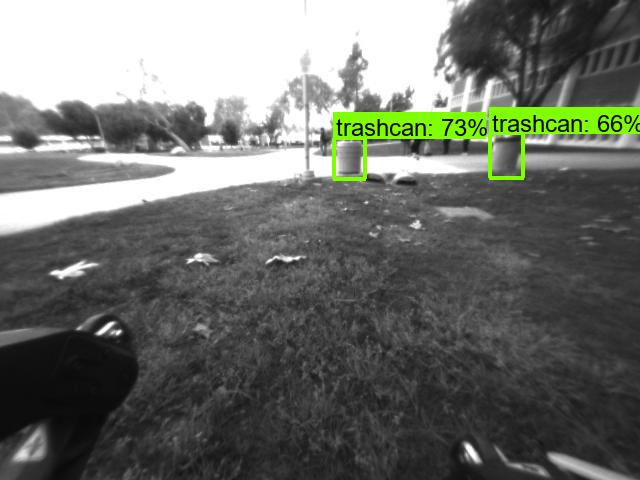trashcan: (334, 141, 366, 177), (492, 135, 518, 176)
